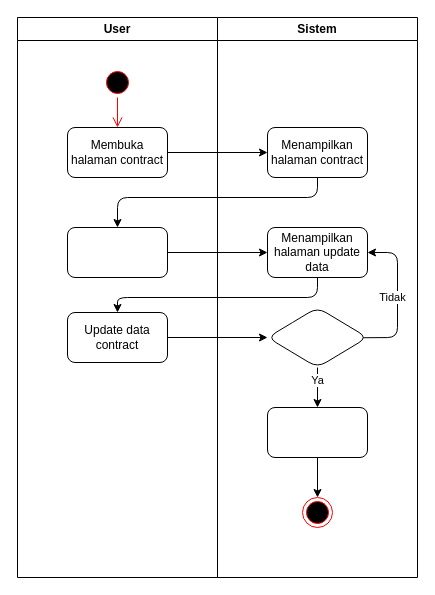
This 435x595 diagram has some shape labels left out. Here are the shapes that lost their labels. From the top down, the centre of each, then its label:
(x=117, y=252): Pilih tombol update pada data
(x=317, y=337): Validasi data
(x=317, y=432): Data berhasil tersimpan
